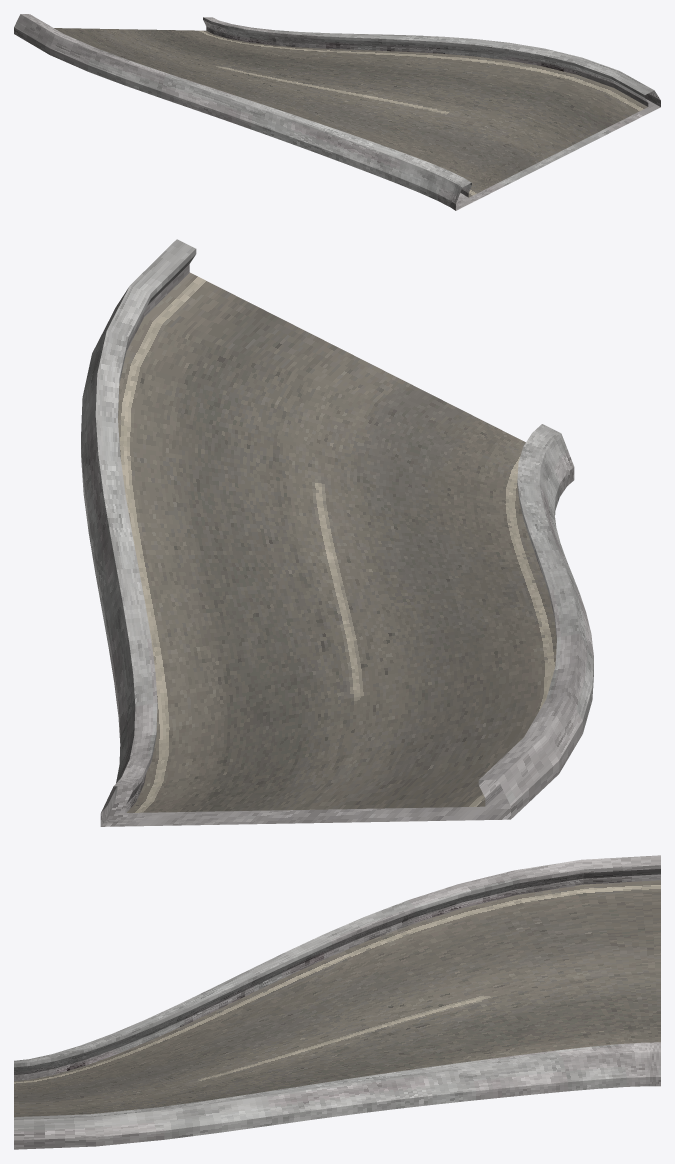
Rendered from road-Chicane-HalfBankedLeft-HalfBankedRight-Even-Left1-Size2.glb.
3 views of the same model, one above another, from view 1: azimuth 30°, elevation 25°; view 2: azimuth 150°, elevation 25°; view 3: azimuth 270°, elevation 25° (orthographic). The views are drawn at different scales.
Parts seen in each view (by area): view 1: road-Chicane-HalfBankedLeft-HalfBankedRight-Even-Left1-Size2; view 2: road-Chicane-HalfBankedLeft-HalfBankedRight-Even-Left1-Size2; view 3: road-Chicane-HalfBankedLeft-HalfBankedRight-Even-Left1-Size2.
Boxes of the visible parts, x1=… form: road-Chicane-HalfBankedLeft-HalfBankedRight-Even-Left1-Size2: x1=14, y1=14, x2=660, y2=210; road-Chicane-HalfBankedLeft-HalfBankedRight-Even-Left1-Size2: x1=81, y1=239, x2=593, y2=826; road-Chicane-HalfBankedLeft-HalfBankedRight-Even-Left1-Size2: x1=14, y1=855, x2=660, y2=1149.
Size of the model in its own units: 2 by 0.3359 by 2.
Materials: 2 (2 with a texture image).
